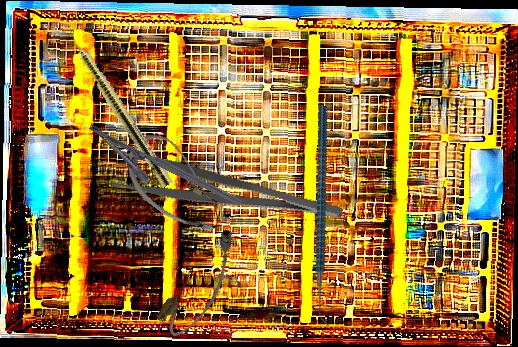Cannula: (112, 125, 241, 244), (152, 223, 252, 344)
Chopper: (247, 103, 405, 333)
Dressing Forceps: (110, 146, 345, 243)
Handpiece: (60, 22, 176, 189)
Needle Holder: (77, 122, 244, 228)
